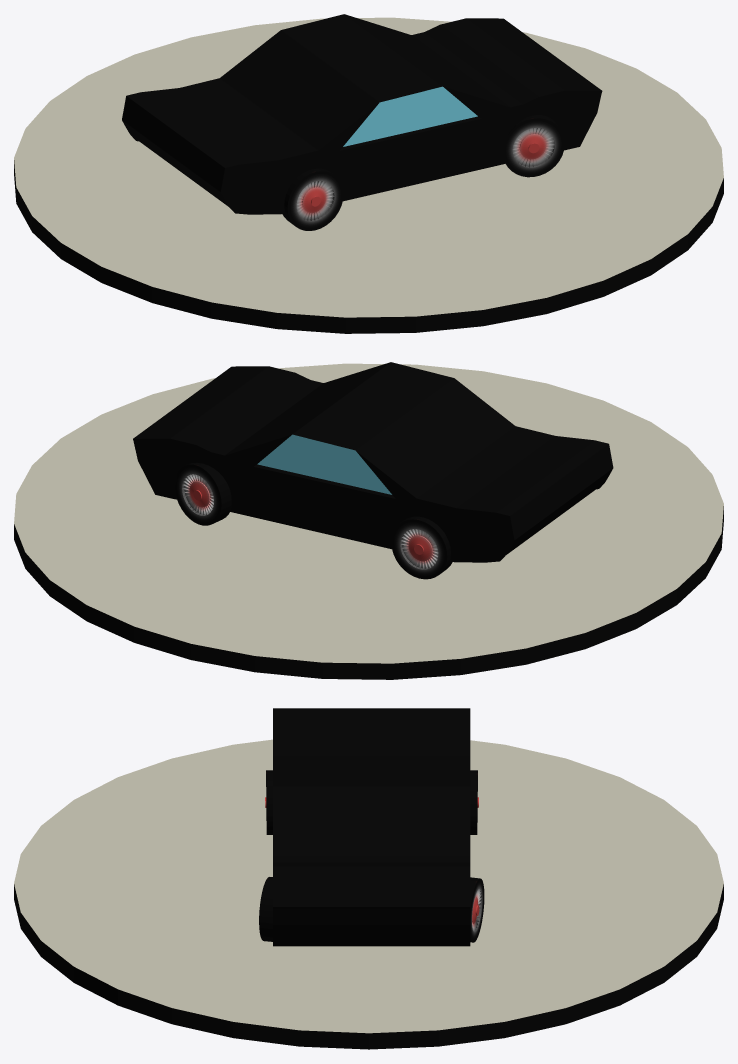
The model's file is car_2.gltf.
3 renders of one model, top to bottom at view 1: azimuth 30°, elevation 25°; view 2: azimuth 150°, elevation 25°; view 3: azimuth 270°, elevation 25°, orthographic.
Parts seen in each view (by area): view 1: car_plain, wheel_top_right, wheel_back_right; view 2: car_plain, wheel_back_left, wheel_top_left; view 3: car_plain, wheel_top_left, wheel_top_right.
Boxes of the visible parts, x1,y1,x2,y2 form: car_plain: [14, 14, 723, 333]; wheel_top_right: [503, 115, 564, 177]; wheel_back_right: [282, 168, 343, 230]; car_plain: [14, 362, 723, 679]; wheel_back_left: [391, 516, 452, 579]; wheel_top_left: [175, 463, 231, 525]; car_plain: [14, 708, 723, 1049]; wheel_top_left: [470, 877, 484, 942]; wheel_top_right: [259, 877, 272, 941].
Bounding box in the file's own units: 2 × 0.3916 × 2.
7 materials, 4 textured.
